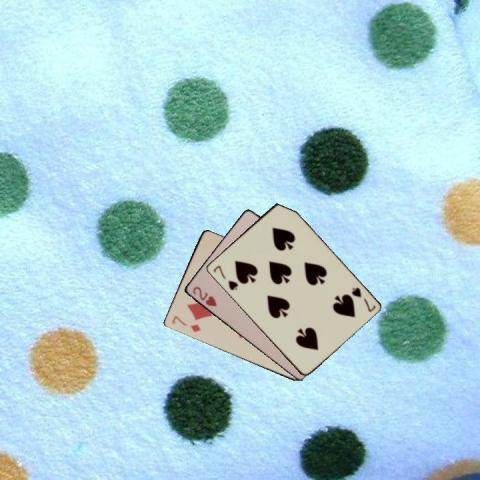2h: (189, 283, 218, 308)
7d: (169, 313, 202, 333)
7s: (210, 263, 239, 292), (348, 284, 377, 313)
